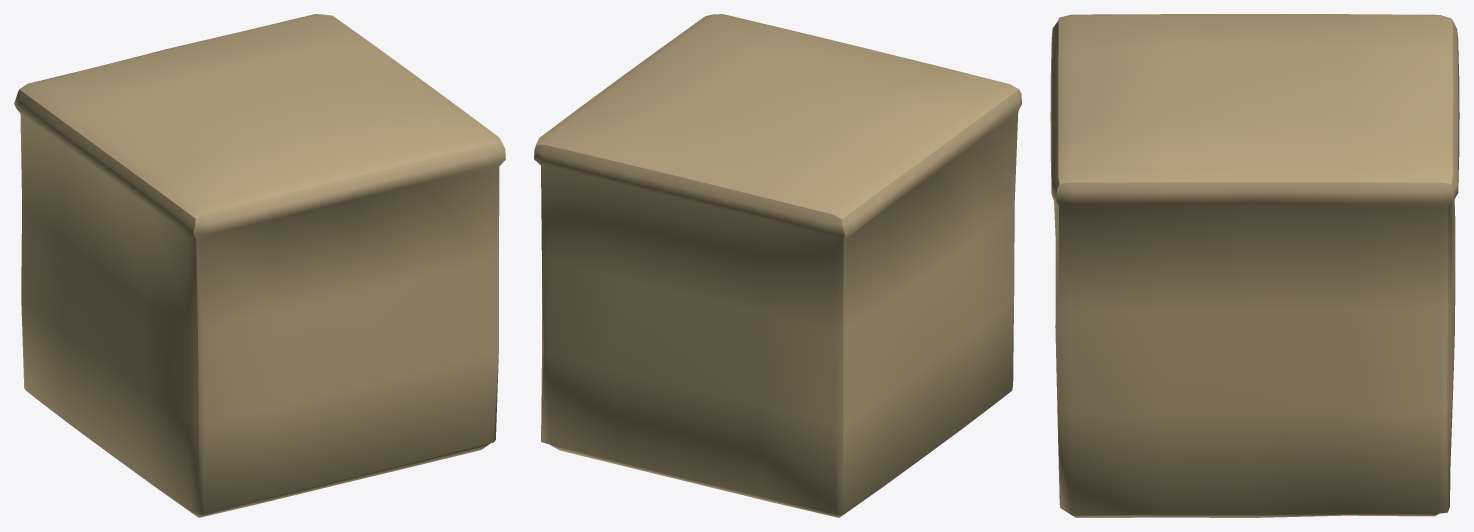
Rendered from cage_box.fbx.
The picture shows the model from 3 angles, left to right: view 1: azimuth 30°, elevation 25°; view 2: azimuth 150°, elevation 25°; view 3: azimuth 270°, elevation 25°; orthographic projection. The views are drawn at different scales.
Parts seen in each view (by area): view 1: Object030; view 2: Object030; view 3: Object030.
Boxes of the visible parts, bbox=[...] form: Object030: bbox=[14, 14, 505, 517]; Object030: bbox=[534, 14, 1021, 517]; Object030: bbox=[1050, 14, 1459, 517].
Bounding box in the file's own units: 60.22 × 59.04 × 60.17.
